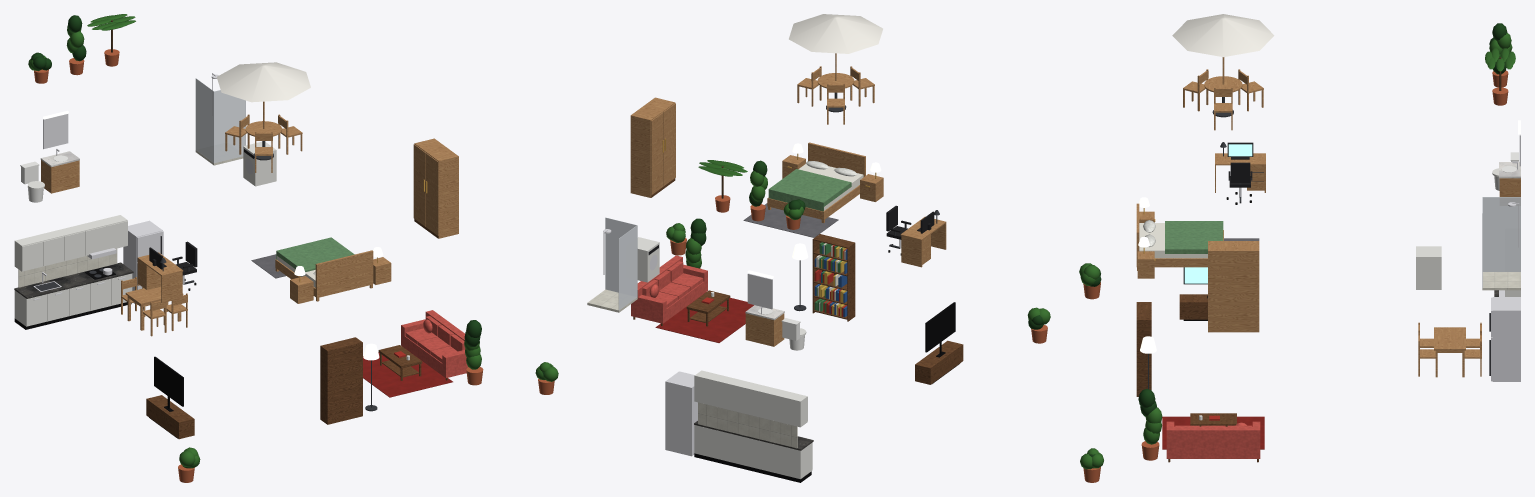
Rendered from i_mexico_casa.gltf.
The picture shows the model from 3 angles, left to right: view 1: azimuth 30°, elevation 25°; view 2: azimuth 150°, elevation 25°; view 3: azimuth 270°, elevation 25°; orthographic projection. The views are drawn at different scales.
Parts seen in each view (by area): view 1: I_mexico_casa; view 2: I_mexico_casa; view 3: I_mexico_casa.
Boxes of the visible parts, x1,y1,x2,y2 form: I_mexico_casa: (14, 14, 558, 482); I_mexico_casa: (587, 14, 1050, 482); I_mexico_casa: (1079, 14, 1520, 482).
Bounding box in the file's own units: 10.69 × 9.05 × 10.37.
34 materials, 12 textured.
